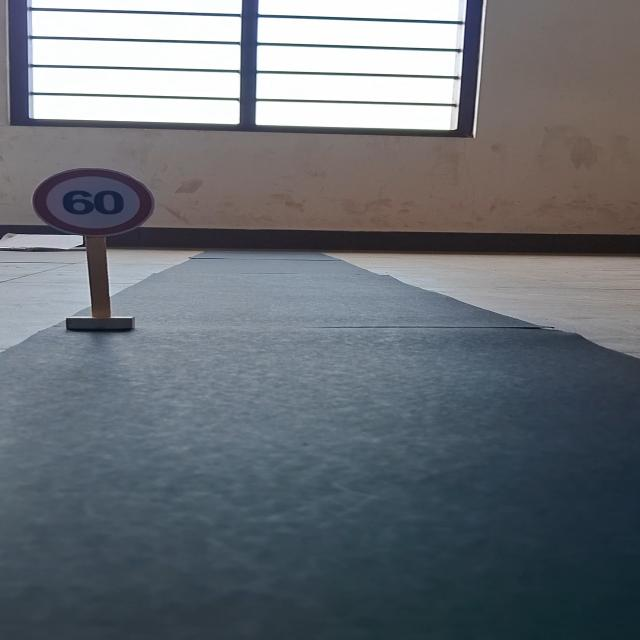Speed60: (29, 163, 156, 242)
